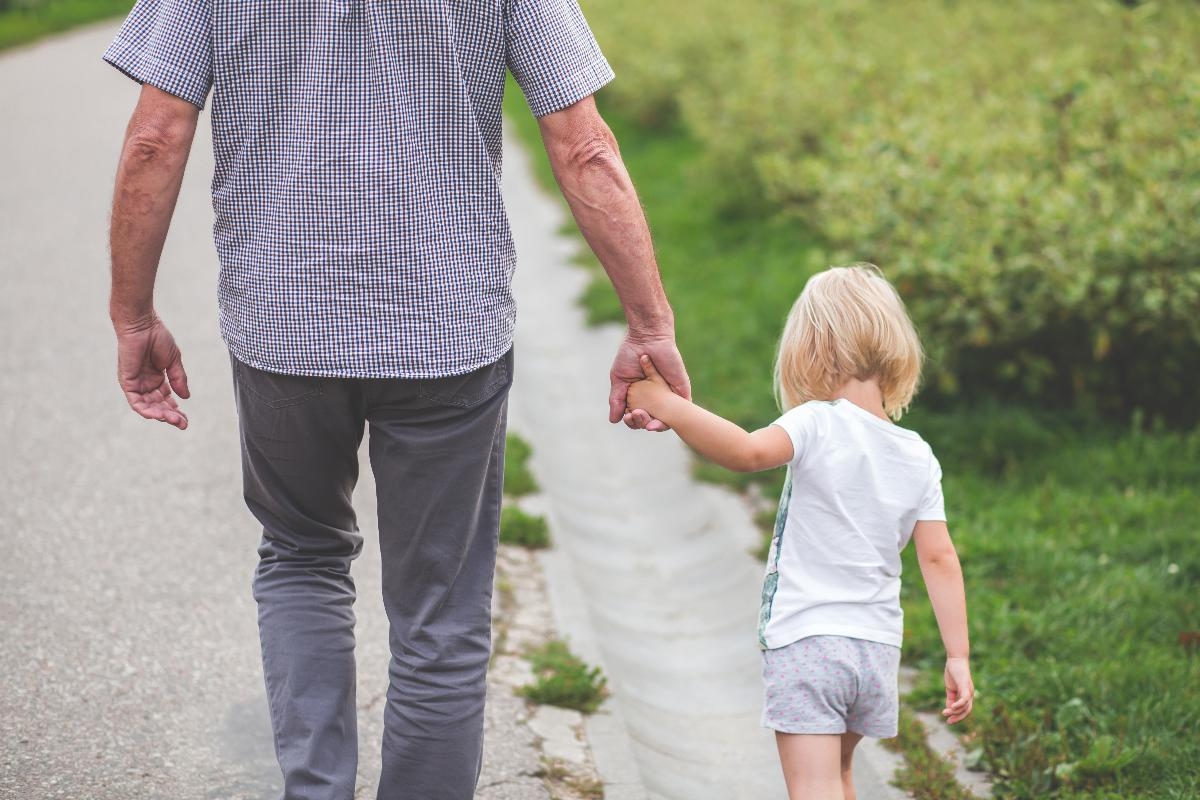Person: (95, 1, 692, 776), (651, 256, 985, 800)
